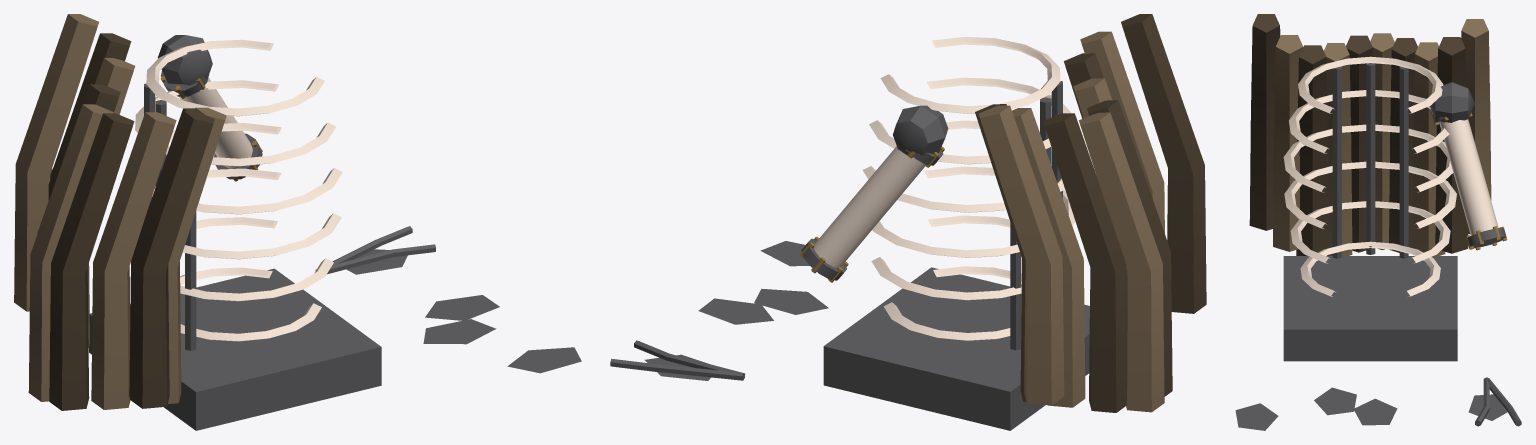
File: macchina_cradle.glb
3 renders of one model, left to right at view 1: azimuth 30°, elevation 25°; view 2: azimuth 150°, elevation 25°; view 3: azimuth 270°, elevation 25°, orthographic. The views are drawn at different scales.
Visible parts, largest first — view 1: teil5, teil3, teil4, teil0, teil1; view 2: teil5, teil4, teil3, teil0, teil1; view 3: teil3, teil4, teil5, teil0, teil1, teil2.
Boxes of the visible parts, x1,y1,x2,y2 form: teil5: (14, 14, 226, 409); teil3: (89, 249, 581, 430); teil4: (37, 33, 214, 410); teil0: (135, 39, 342, 341); teil1: (144, 35, 435, 350); teil5: (978, 31, 1164, 412); teil4: (975, 14, 1206, 412); teil3: (645, 241, 1089, 430); teil0: (814, 37, 1075, 340); teil1: (610, 81, 1062, 380); teil3: (1235, 256, 1507, 430); teil4: (1249, 14, 1468, 255); teil5: (1273, 19, 1491, 255); teil0: (1283, 56, 1498, 296); teil1: (1332, 63, 1521, 426); teil2: (1431, 112, 1507, 250).
Bounding box in the file's own units: 0.7557 × 0.5072 × 0.4932.
